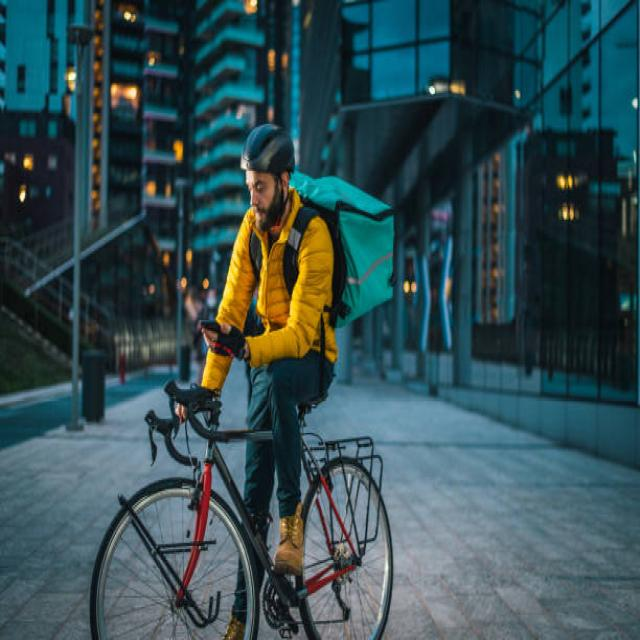bicycle: (91, 124, 392, 639)
